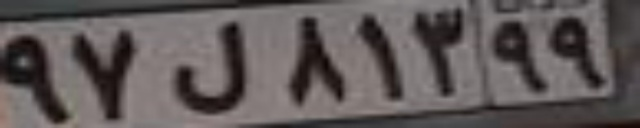1: (355, 15, 405, 97)
3: (415, 8, 465, 96)
7: (70, 28, 139, 119)
8: (289, 17, 345, 103)
9: (0, 33, 68, 123), (550, 17, 605, 88), (490, 20, 544, 90)
lam: (165, 21, 250, 115)
